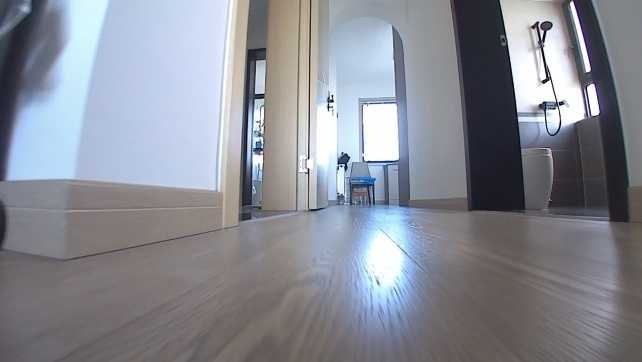door_sill: (515, 206, 611, 221), (239, 207, 305, 225)
toilet: (519, 145, 558, 208)
